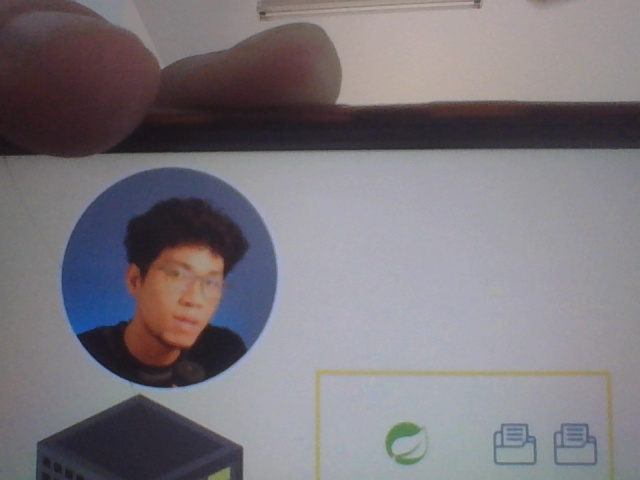fake: (119, 184, 254, 376)
